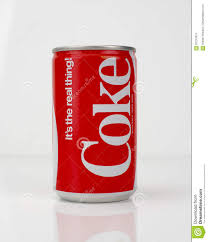coke: (79, 59, 133, 180)
